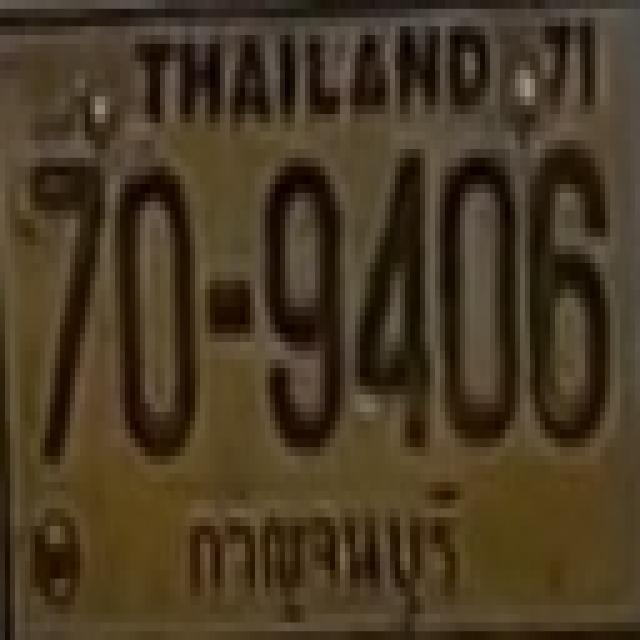0: (112, 158, 192, 447), (438, 140, 512, 438)
4: (355, 140, 425, 438)
6: (525, 132, 605, 438)
7: (25, 149, 100, 456)
9: (260, 149, 340, 447)
KRI: (173, 478, 478, 640)
